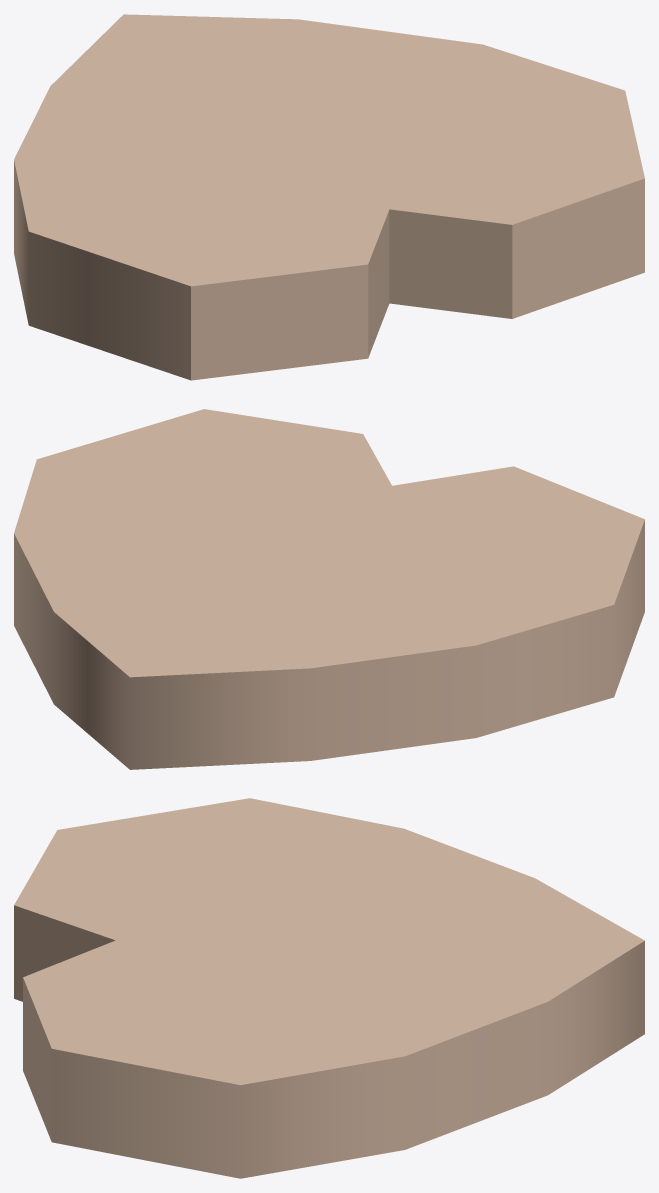
The model's file is SM_Shape_Heart__02.fbx.
3 renders of one model, top to bottom at view 1: azimuth 30°, elevation 25°; view 2: azimuth 150°, elevation 25°; view 3: azimuth 270°, elevation 25°, orthographic.
Parts seen in each view (by area): view 1: SM_Shape_Heart__02; view 2: SM_Shape_Heart__02; view 3: SM_Shape_Heart__02.
Part boxes in pixels (<box>): SM_Shape_Heart__02: <box>14,14,644,380</box>; SM_Shape_Heart__02: <box>14,409,644,769</box>; SM_Shape_Heart__02: <box>14,798,644,1178</box>.
Bounding box in the file's own units: 7.69 × 1.17 × 7.14.
